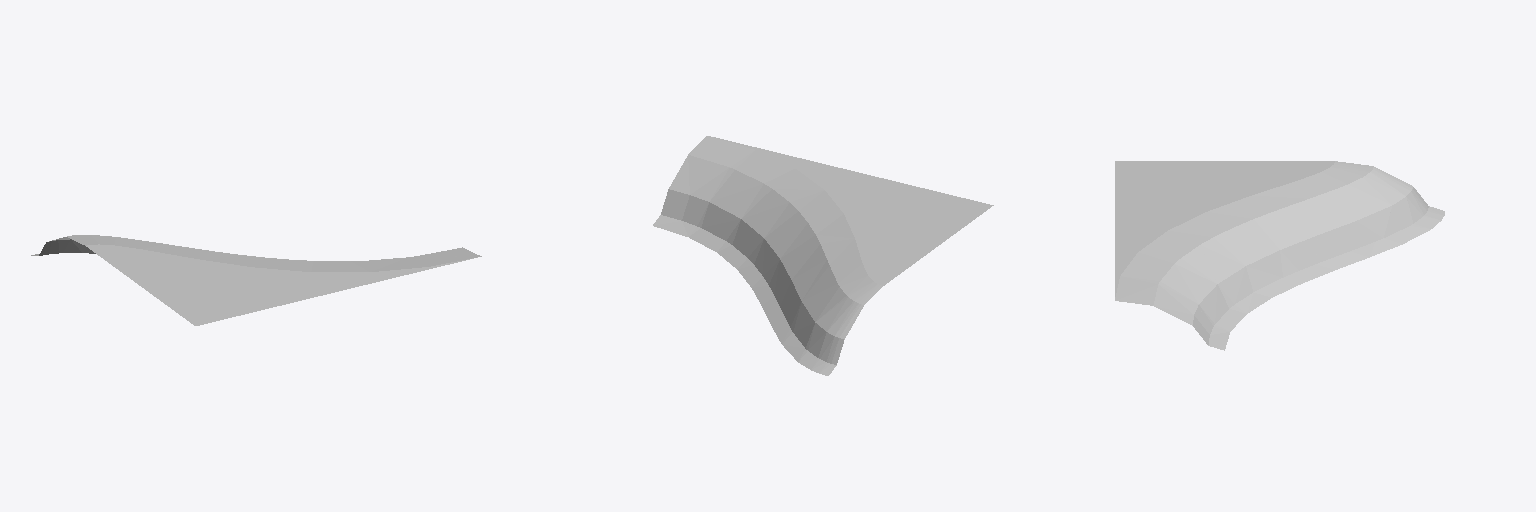
Rendered from Track_Normal_Esse_3x3.obj.
3 views of the same model, side by side, from view 1: azimuth 30°, elevation 25°; view 2: azimuth 150°, elevation 25°; view 3: azimuth 270°, elevation 25° (orthographic).
Parts seen in each view (by area): view 1: object1; view 2: object1; view 3: object1.
Part boxes in pixels (bbox=[...]): object1: bbox=[31, 235, 481, 325]; object1: bbox=[653, 136, 993, 375]; object1: bbox=[1115, 161, 1444, 350].
Size of the model in its own units: 3 by 0.5 by 3.